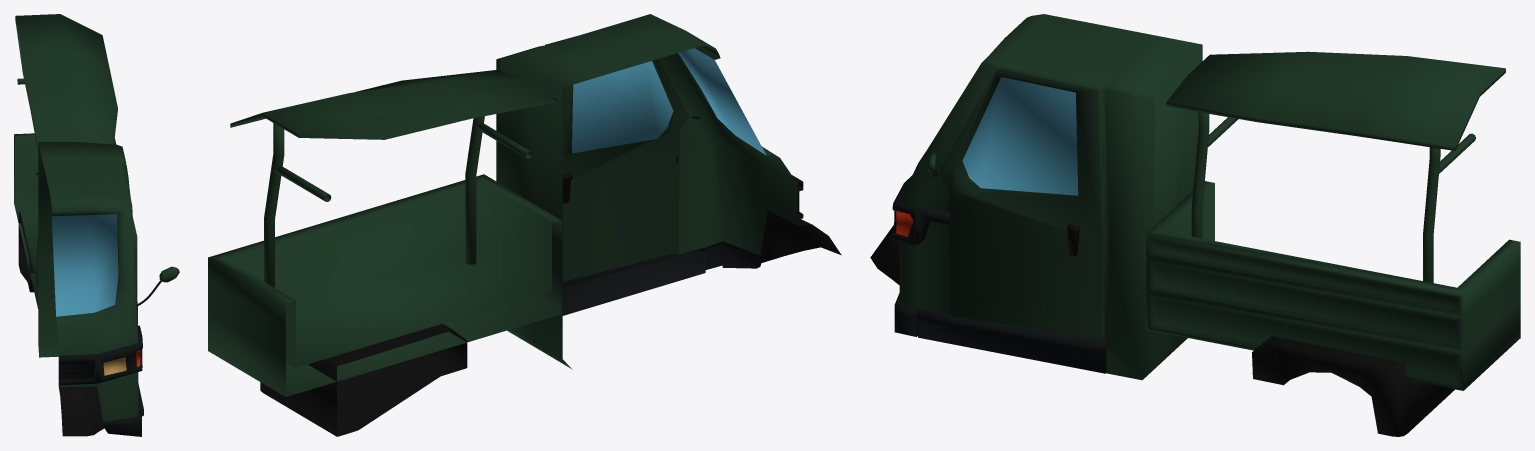
The model's file is TruckCage.fbx.
The picture shows the model from 3 angles, left to right: view 1: azimuth 30°, elevation 25°; view 2: azimuth 150°, elevation 25°; view 3: azimuth 270°, elevation 25°; orthographic projection. The views are drawn at different scales.
Visible parts, largest first — view 1: ThreeWheelerCar; view 2: ThreeWheelerCar; view 3: ThreeWheelerCar.
Boxes of the visible parts, x1,y1,x2,y2 form: ThreeWheelerCar: (14,14,179,436); ThreeWheelerCar: (208,14,841,436); ThreeWheelerCar: (870,14,1520,436).
Size of the model in its own units: 2.45 by 3.83 by 2.13.
